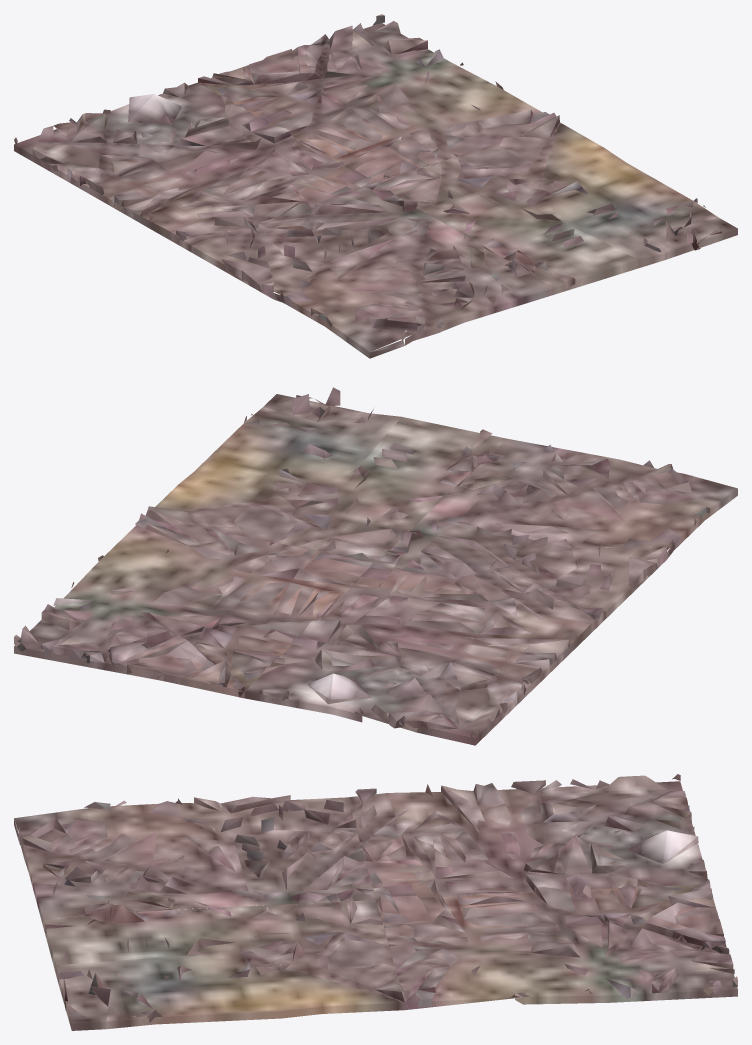
3 renders of one model, top to bottom at view 1: azimuth 30°, elevation 25°; view 2: azimuth 150°, elevation 25°; view 3: azimuth 270°, elevation 25°, orthographic. The views are drawn at different scales.
Parts seen in each view (by area): view 1: Mesh_0; view 2: Mesh_0; view 3: Mesh_0.
Part boxes in pixels (<box>): Mesh_0: <box>14,14,737,358</box>; Mesh_0: <box>14,387,737,745</box>; Mesh_0: <box>14,774,737,1030</box>.
Bounding box in the file's own units: 1065 × 74.15 × 1318.
1 material, 1 textured.
